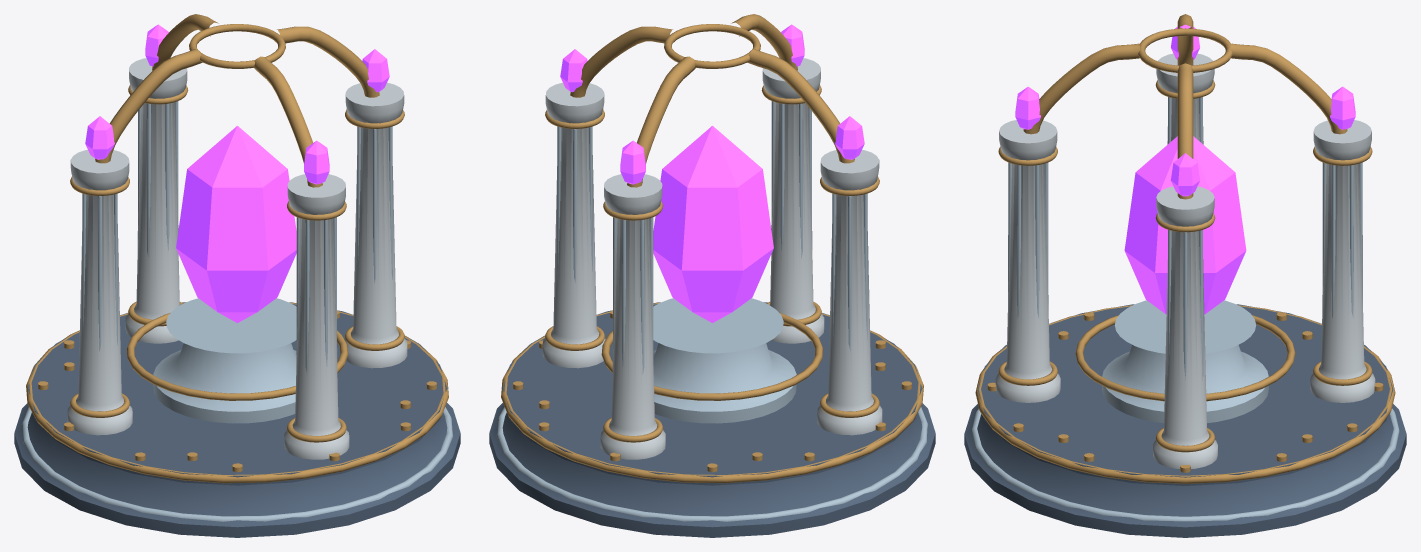
File: moonsteel-convergence-lunar-nexus-9ea45396__18158.glb
The picture shows the model from 3 angles, left to right: view 1: azimuth 30°, elevation 25°; view 2: azimuth 150°, elevation 25°; view 3: azimuth 270°, elevation 25°; orthographic projection.
Parts seen in each view (by area): view 1: lunar-nexus; view 2: lunar-nexus; view 3: lunar-nexus.
Part boxes in pixels (box(x1,y1,x2,y2)): lunar-nexus: box(14, 14, 460, 537); lunar-nexus: box(489, 14, 935, 537); lunar-nexus: box(964, 14, 1406, 537).
Bounding box in the file's own units: 4.5 × 4.5 × 4.5.
